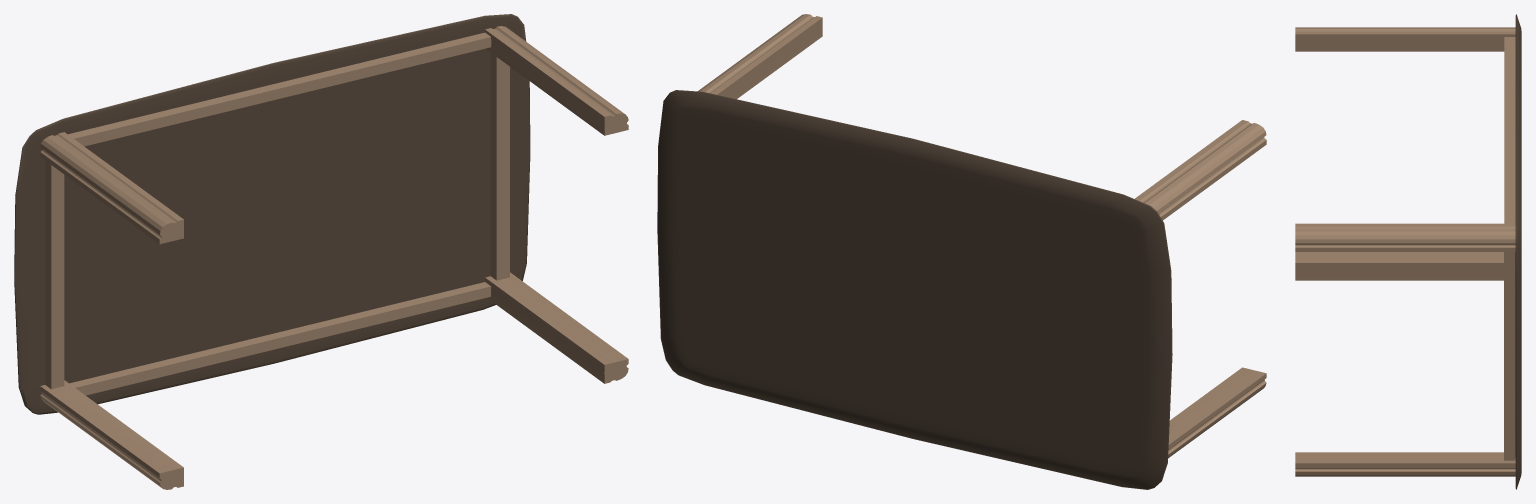
File: Table.dae
3 views of the same model, side by side, from view 1: azimuth 30°, elevation 25°; view 2: azimuth 150°, elevation 25°; view 3: azimuth 270°, elevation 25° (orthographic). The views are drawn at different scales.
Parts seen in each view (by area): view 1: dining_table; view 2: dining_table; view 3: dining_table.
Boxes of the visible parts, box(x1,y1,x2,y2) form: dining_table: box(14, 14, 628, 489); dining_table: box(657, 14, 1266, 489); dining_table: box(1295, 14, 1521, 489).
Size of the model in its own units: 1.73 by 0.7135 by 0.9645.
